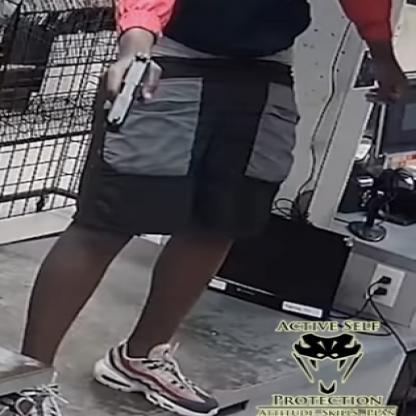weapon: (106, 48, 156, 132)
